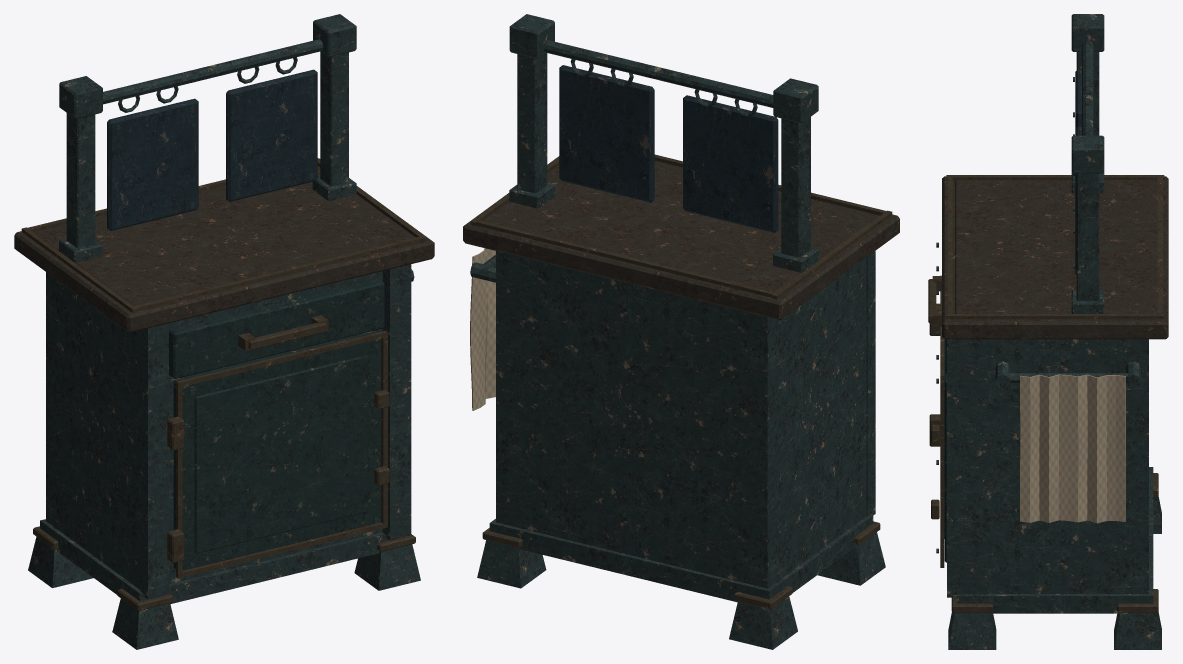
The model's file is ScoreCabinet.fbx.
3 views of the same model, side by side, from view 1: azimuth 30°, elevation 25°; view 2: azimuth 150°, elevation 25°; view 3: azimuth 270°, elevation 25° (orthographic). The views are drawn at different scales.
Parts seen in each view (by area): view 1: ScoreCabinet_Body, ScoreCard_Left, ScoreCard_Right; view 2: ScoreCabinet_Body, ScoreCard_Left, ScoreCard_Right; view 3: ScoreCabinet_Body, ScoreCard_Left.
Boxes of the visible parts, bbox=[...] form: ScoreCabinet_Body: bbox=[14, 14, 434, 649]; ScoreCard_Left: bbox=[107, 98, 198, 230]; ScoreCard_Right: bbox=[226, 69, 317, 201]; ScoreCabinet_Body: bbox=[463, 14, 899, 649]; ScoreCard_Left: bbox=[683, 95, 778, 232]; ScoreCard_Right: bbox=[559, 65, 654, 202]; ScoreCabinet_Body: bbox=[928, 14, 1168, 649]; ScoreCard_Left: bbox=[1073, 69, 1081, 211].
Size of the model in its own units: 83.85 by 127 by 55.1.
6 materials, 6 textured.
